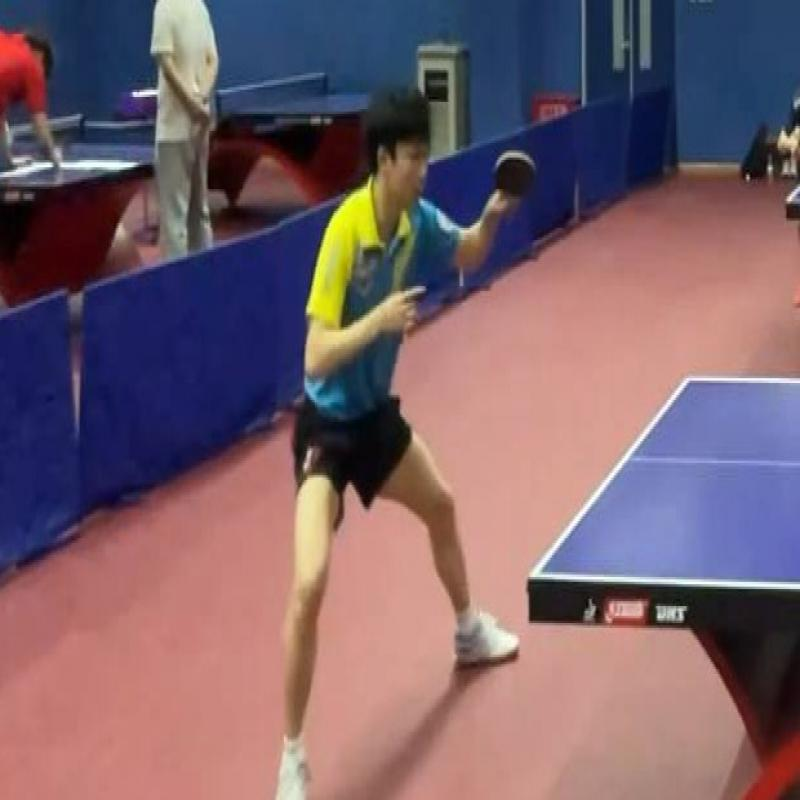bats: (485, 136, 542, 218)
